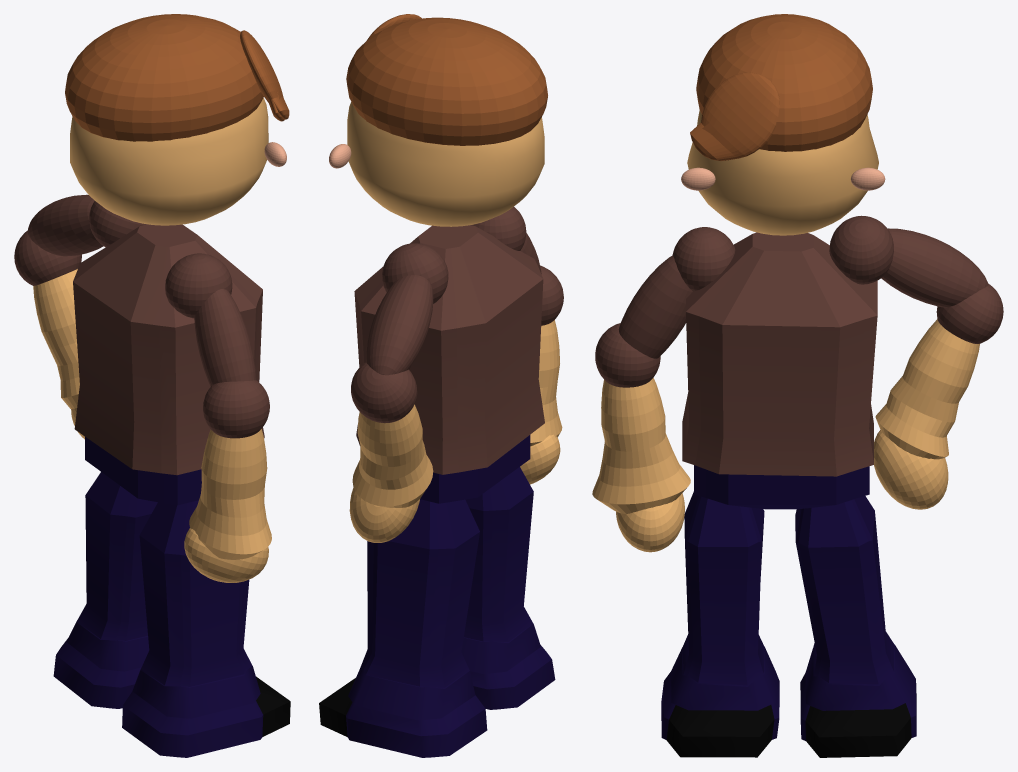
File: guy standing.fbx
3 renders of one model, left to right at view 1: azimuth 30°, elevation 25°; view 2: azimuth 150°, elevation 25°; view 3: azimuth 270°, elevation 25°, orthographic. The views are drawn at different scales.
Parts seen in each view (by area): view 1: Cube.051, Cube.047, Sphere.207, Sphere.206, Cube.050, Sphere.205, Sphere.209, Sphere.214, Sphere.203, trousers.015, Sphere.212, Sphere.210 (+5 smaller); view 2: Cube.051, Cube.050, Sphere.207, Sphere.206, Cube.047, Sphere.214, Sphere.212, Sphere.213, trousers.015, Sphere.211, Sphere.205, Sphere.215 (+5 smaller); view 3: Cube.051, Cube.050, Cube.047, Sphere.207, Sphere.206, Sphere.205, Sphere.214, Sphere.208, trousers.015, Sphere.212, Cube.048, Cube.049 (+8 smaller).
Boxes of the visible parts, x1,y1,x2,y2 form: Cube.051: (73, 224, 264, 475); Cube.047: (122, 500, 263, 757); Sphere.207: (65, 14, 263, 141); Sphere.206: (70, 98, 268, 225); Cube.050: (53, 472, 157, 708); Sphere.205: (189, 429, 271, 559); Sphere.209: (194, 289, 256, 386); Sphere.214: (33, 269, 79, 408); Sphere.203: (203, 380, 269, 438); trousers.015: (85, 437, 201, 505); Sphere.212: (27, 194, 103, 256); Sphere.210: (165, 253, 232, 318); Cube.051: (354, 225, 544, 474); Cube.050: (346, 499, 487, 757); Sphere.207: (346, 17, 547, 145); Sphere.206: (347, 102, 544, 226); Cube.047: (461, 467, 555, 709); Sphere.214: (352, 404, 433, 507); Sphere.212: (366, 275, 433, 375); Sphere.213: (351, 362, 417, 423); trousers.015: (420, 435, 530, 503); Sphere.211: (382, 243, 448, 303); Sphere.205: (530, 320, 562, 446); Sphere.215: (349, 487, 419, 542); Cube.051: (682, 232, 877, 476); Cube.050: (795, 496, 916, 740); Cube.047: (661, 491, 779, 739); Sphere.207: (696, 14, 872, 151); Sphere.206: (687, 110, 878, 235); Sphere.205: (592, 378, 690, 513); Sphere.214: (875, 319, 979, 459); Sphere.208: (690, 72, 779, 161); trousers.015: (694, 465, 869, 509); Sphere.212: (881, 228, 988, 307); Cube.048: (666, 705, 774, 757); Cube.049: (805, 703, 911, 757).
Size of the model in its own units: 195 by 677 by 364.
